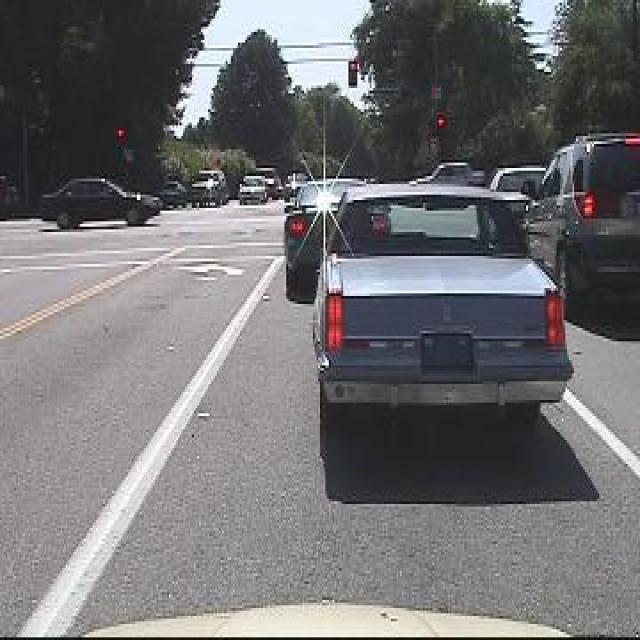car_back: (309, 178, 576, 453), (522, 130, 640, 316), (281, 166, 329, 304)
car_front: (190, 173, 228, 208), (236, 172, 269, 210)
